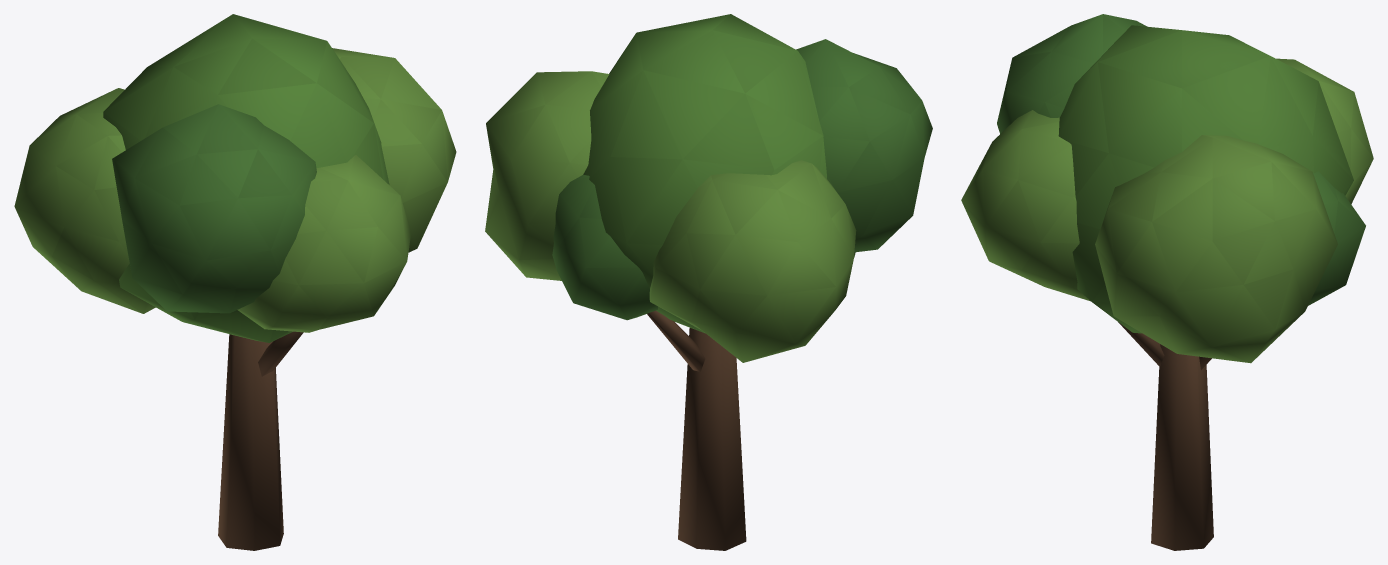
The model's file is tree_round_a.glb.
3 renders of one model, left to right at view 1: azimuth 30°, elevation 25°; view 2: azimuth 150°, elevation 25°; view 3: azimuth 270°, elevation 25°, orthographic.
Parts seen in each view (by area): view 1: Tree; view 2: Tree; view 3: Tree.
Boxes of the visible parts, x1,y1,x2,y2 form: Tree: (14,14,456,550); Tree: (485,14,932,550); Tree: (961,14,1373,550).
Size of the model in its own units: 2.65 by 3.32 by 2.45.
